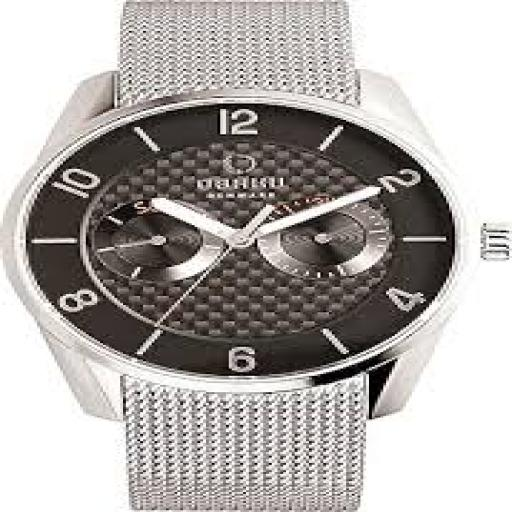KolSaati: (0, 5, 495, 512)
